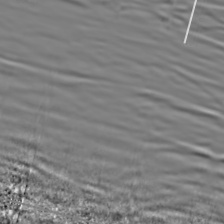cavities: (0, 73, 214, 191)
